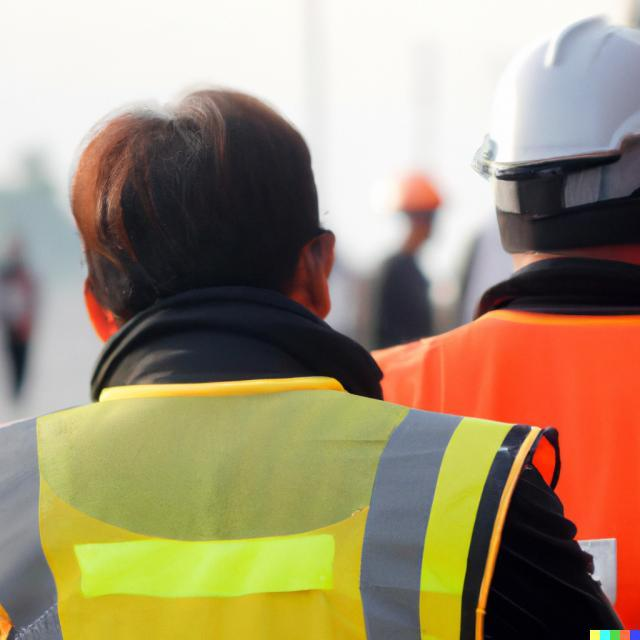reflective_jacket: (10, 368, 586, 636), (405, 285, 638, 637)
safety_helmet: (475, 12, 639, 168), (391, 173, 447, 219)
